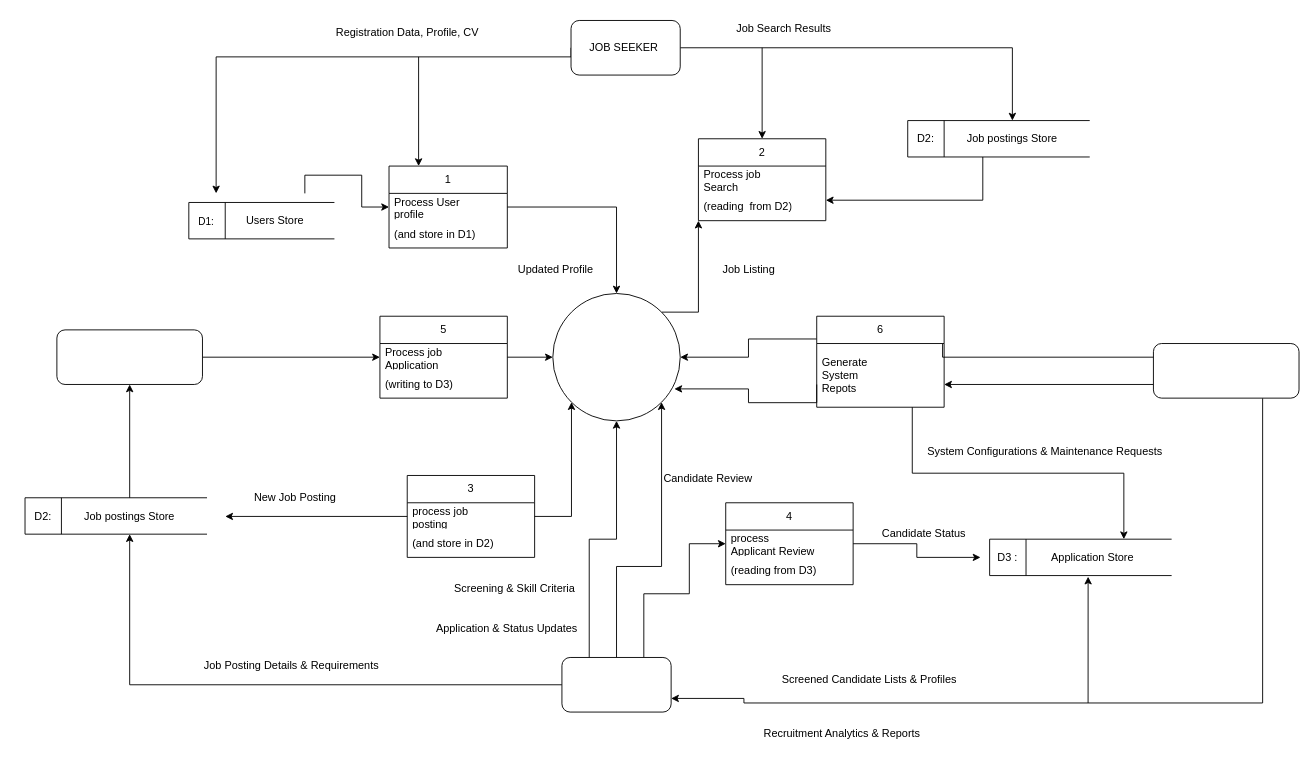
The diagram is 1315 pixels wide and 773 high, and some of its shapes have lost their labels. Each missing label, with the centre of its shape:
"Employer / Recruiter" goes at point 616,684.
"HR Departent" goes at point 129,356.
"Online job portal" goes at point 616,357.
"System Administrator" goes at point 1226,370.
